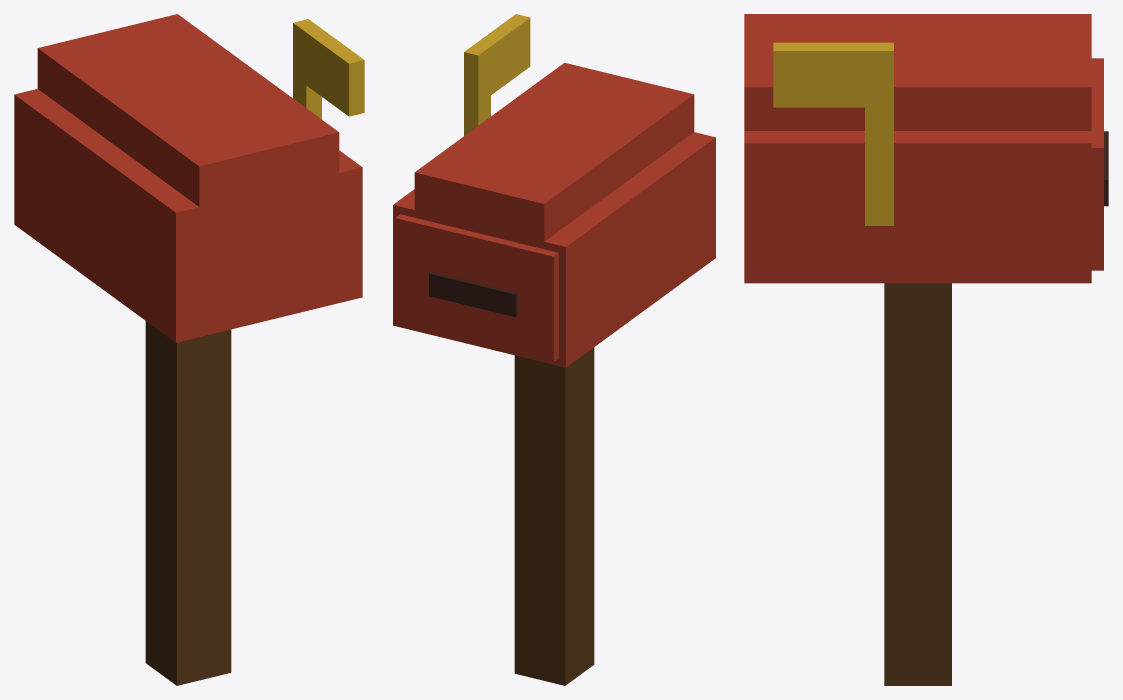
Rendered from nt-mailbox.glb.
The picture shows the model from 3 angles, left to right: view 1: azimuth 30°, elevation 25°; view 2: azimuth 150°, elevation 25°; view 3: azimuth 270°, elevation 25°; orthographic projection. The views are drawn at different scales.
Parts seen in each view (by area): view 1: box-prop; view 2: box-prop, part-flap; view 3: box-prop, part-flap.
Part boxes in pixels (<box>): box-prop: <box>14,14,364,685</box>; box-prop: <box>393,14,715,685</box>; part-flap: <box>395,214,558,362</box>; box-prop: <box>744,14,1091,685</box>; part-flap: <box>1091,58,1108,270</box>.
Bounding box in the file's own units: 0.52 × 1.55 × 0.755.
